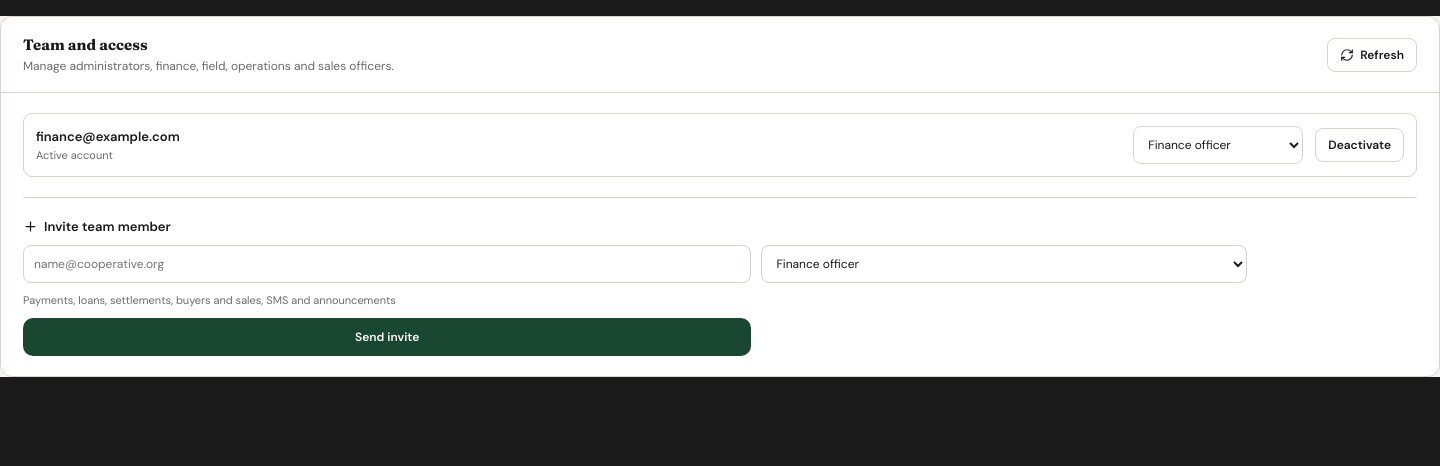
Test: GovernanceSettings › surfaces the invite link when email delivery is not configured (#248)
Type "new@example.com" into the field named "New user email" at (387, 264), box [23,245,751,283]
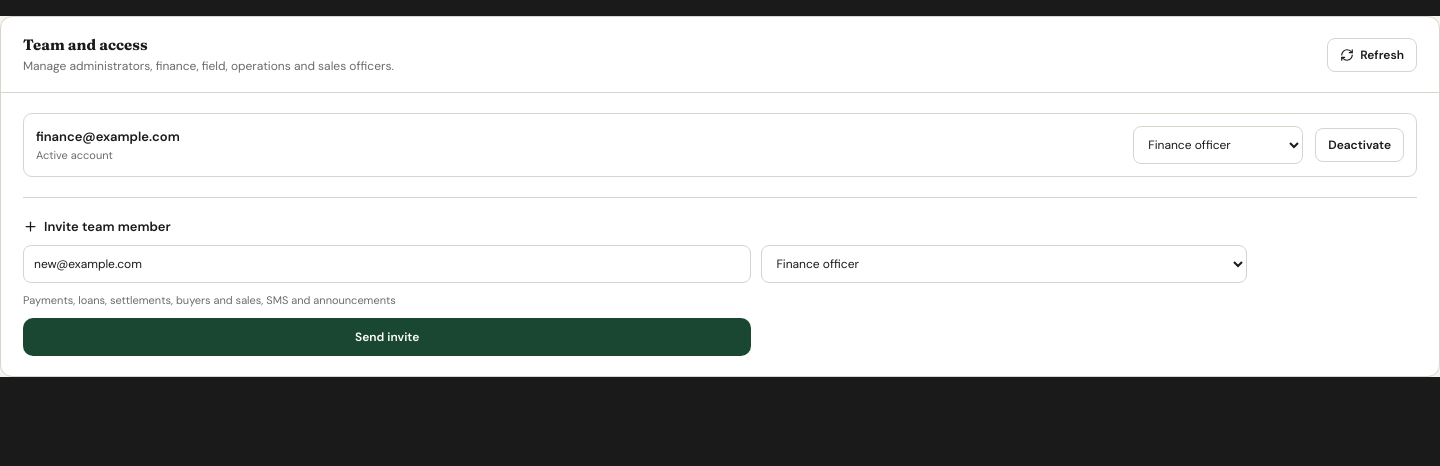
Submit the form named "Send invite", box [23,197,1417,356]
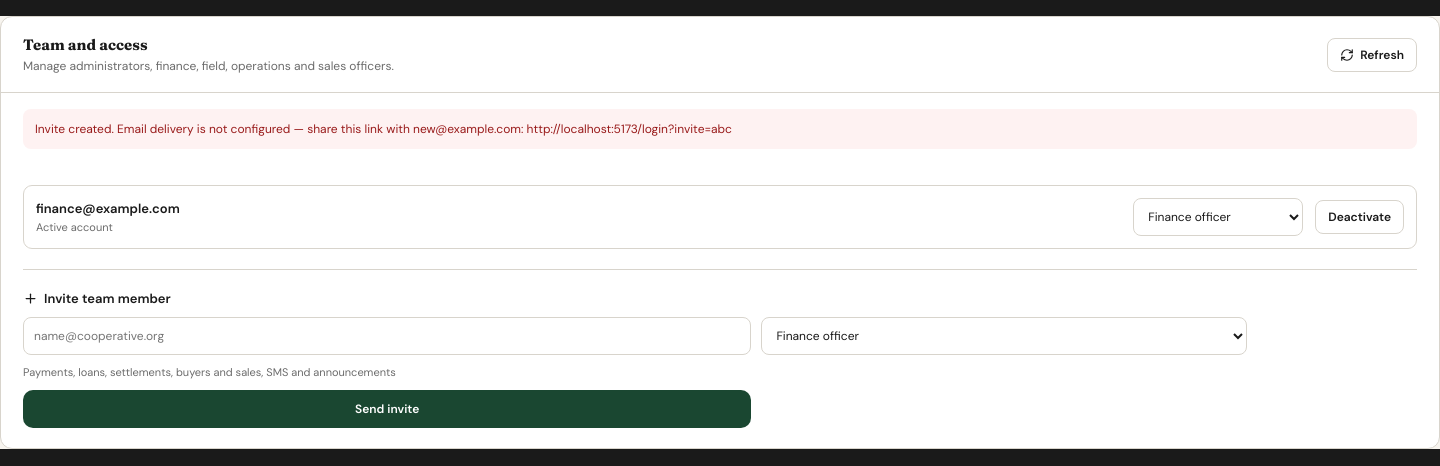
Check: the text "login?invite=abc" is shown, box [35,121,732,137]
